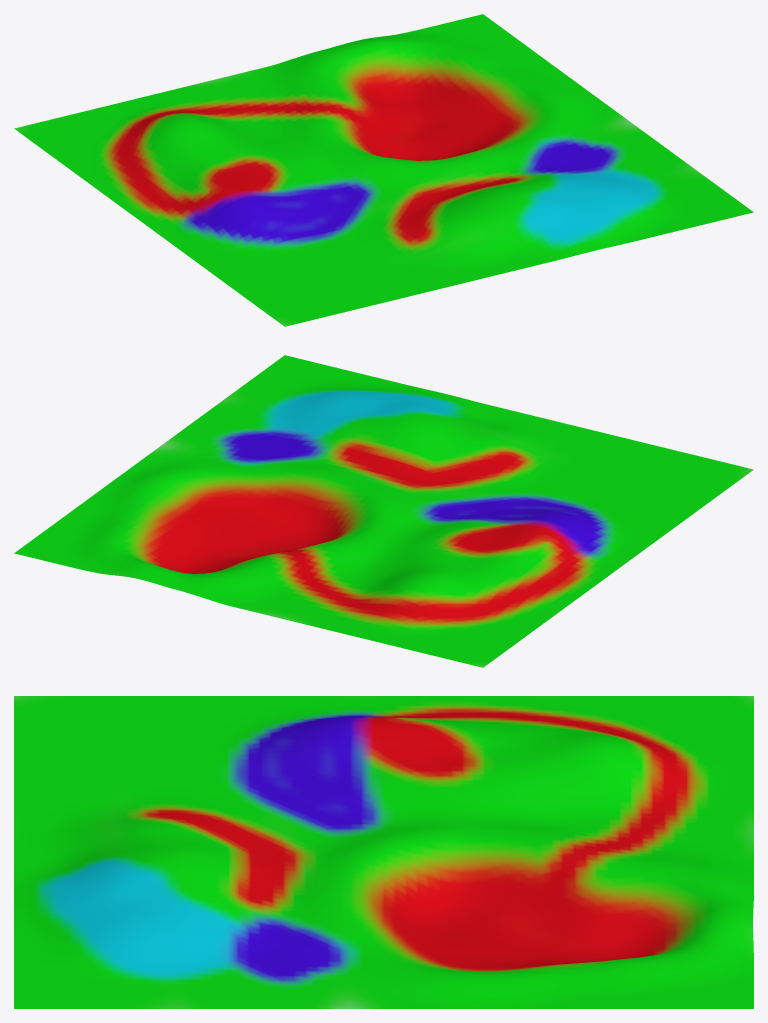
File: Map.fbx
3 renders of one model, top to bottom at view 1: azimuth 30°, elevation 25°; view 2: azimuth 150°, elevation 25°; view 3: azimuth 270°, elevation 25°, orthographic. The views are drawn at different scales.
Visible parts, largest first — view 1: Plane; view 2: Plane; view 3: Plane.
Boxes of the visible parts, x1,y1,x2,y2 form: Plane: [14, 14, 753, 326]; Plane: [14, 355, 753, 667]; Plane: [14, 696, 753, 1008].
Size of the model in its own units: 11970 by 1045 by 11971.
